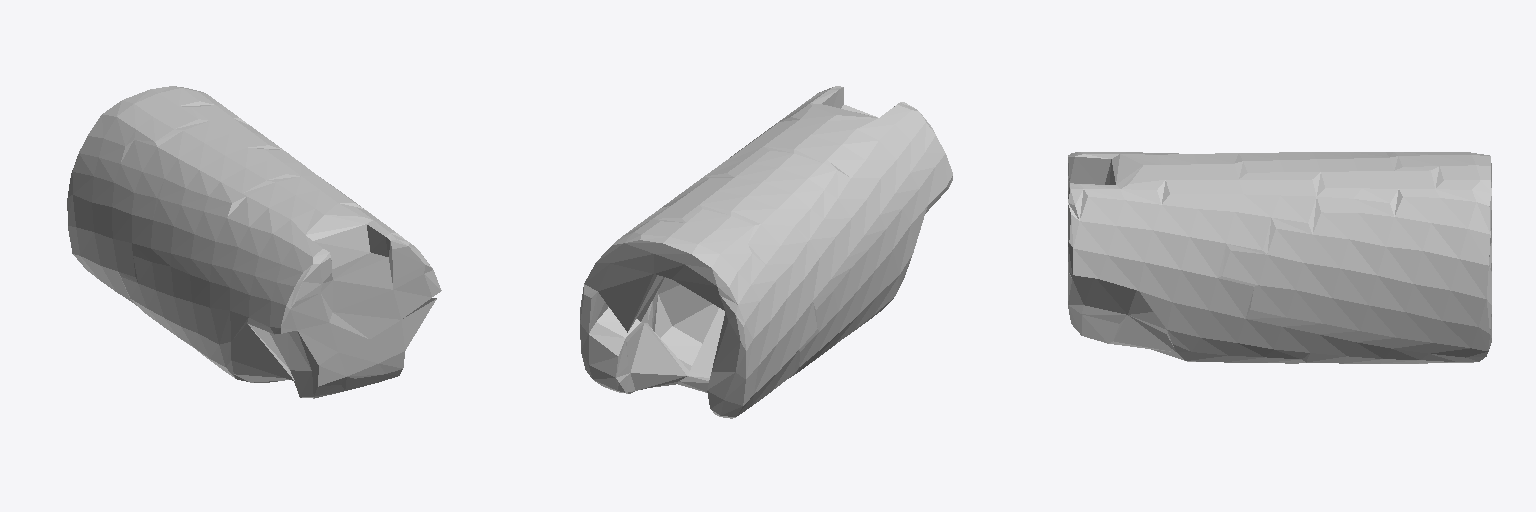
Rendered from sim_ecub_1-0_l_hand_middle_1.obj.
3 views of the same model, side by side, from view 1: azimuth 30°, elevation 25°; view 2: azimuth 150°, elevation 25°; view 3: azimuth 270°, elevation 25° (orthographic).
Bounding box in the file's own units: 16.99 × 17.26 × 36.5.